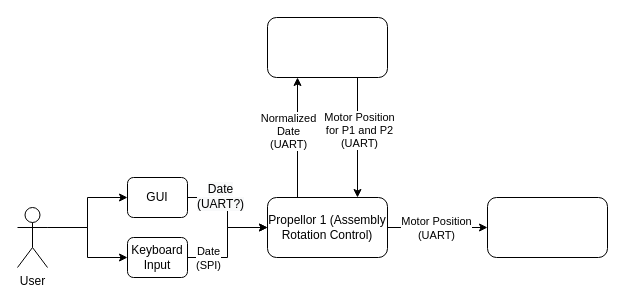
This 625x306 diagram has some shape labels left out. The shapes that lost their labels are listed below. From the top down, each one's centre as x and y in pixels, then its label:
(327,47): SD Card
(547,227): Propellor 2 (Earth/Moon rotation control)
